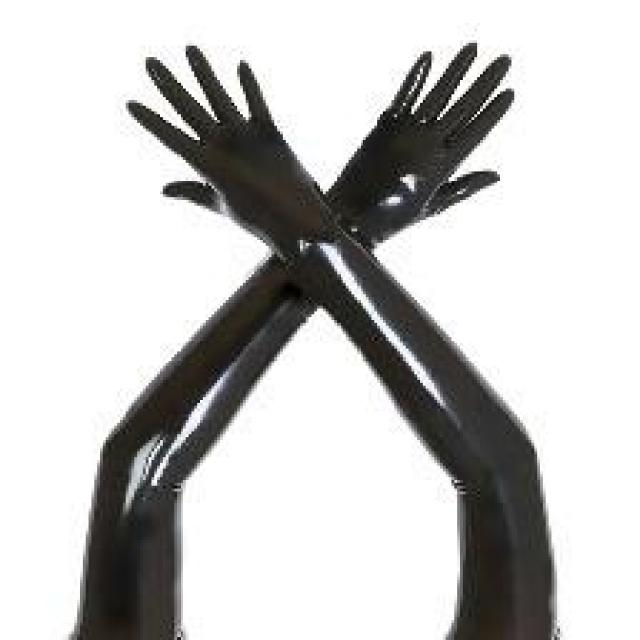Glove: (75, 25, 576, 640)
